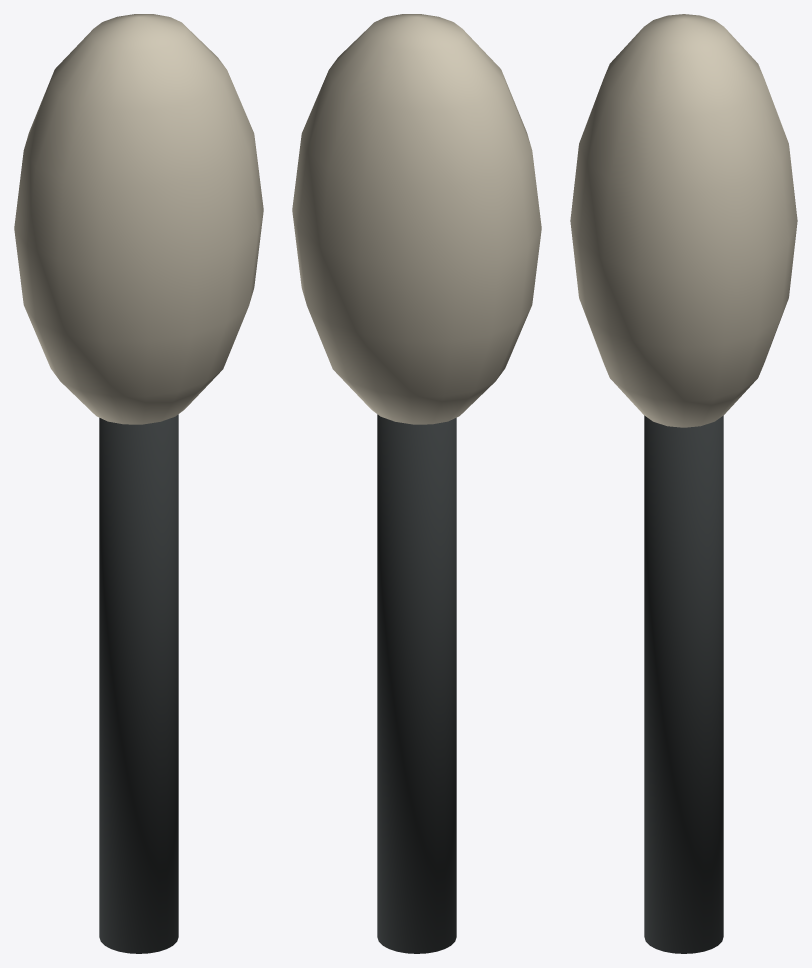
File: sku_brush.glb
The picture shows the model from 3 angles, left to right: view 1: azimuth 30°, elevation 25°; view 2: azimuth 150°, elevation 25°; view 3: azimuth 270°, elevation 25°; orthographic projection.
Parts seen in each view (by area): view 1: sku_brush_Woven_1, sku_brush_Anodised_graphite; view 2: sku_brush_Woven_1, sku_brush_Anodised_graphite; view 3: sku_brush_Woven_1, sku_brush_Anodised_graphite.
Boxes of the visible parts, x1,y1,x2,y2 form: sku_brush_Woven_1: (14, 14, 263, 424); sku_brush_Anodised_graphite: (99, 414, 178, 953); sku_brush_Woven_1: (292, 14, 541, 424); sku_brush_Anodised_graphite: (377, 414, 456, 953); sku_brush_Woven_1: (570, 14, 797, 427); sku_brush_Anodised_graphite: (644, 415, 723, 953).
Bounding box in the file's own units: 0.052 × 0.205 × 0.046.
